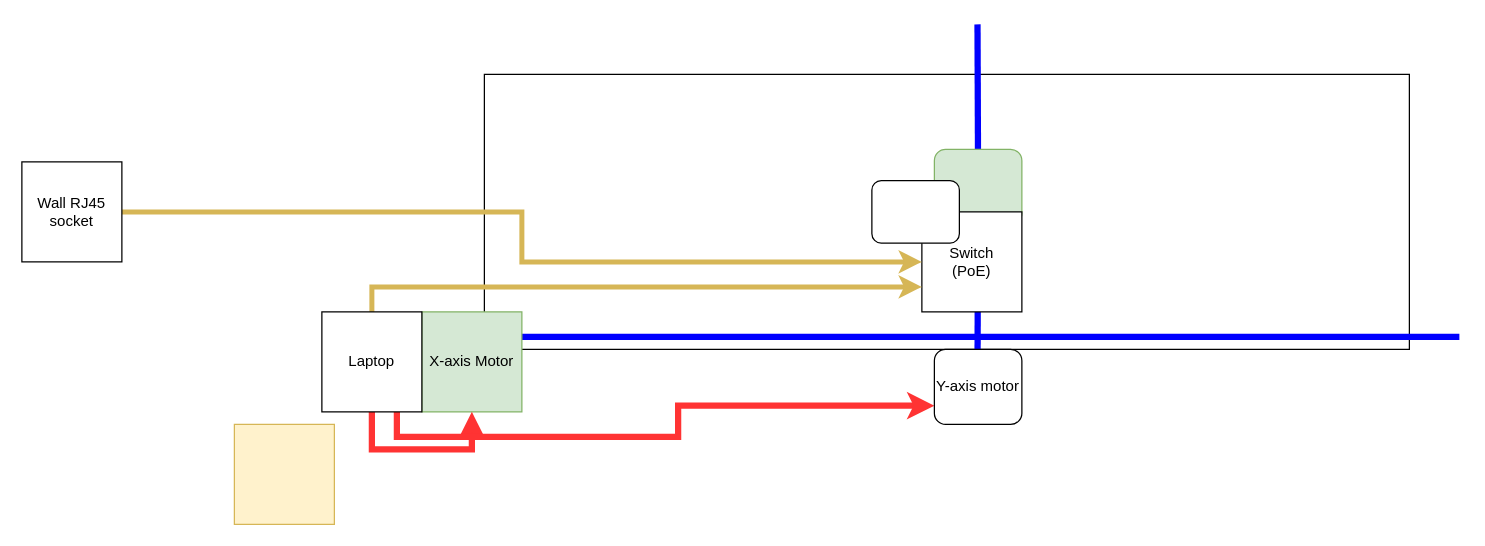
The diagram is 1485 pixels wide and 546 high, and some of its shapes have lost their labels. Here are the shapes that lost their labels. From the top down, the centre of each, then its label:
At [977,186]: "Sensor Head mount".
At [915,211]: "luxonis camera".
At [283,473]: "NEMA Enclosure".
